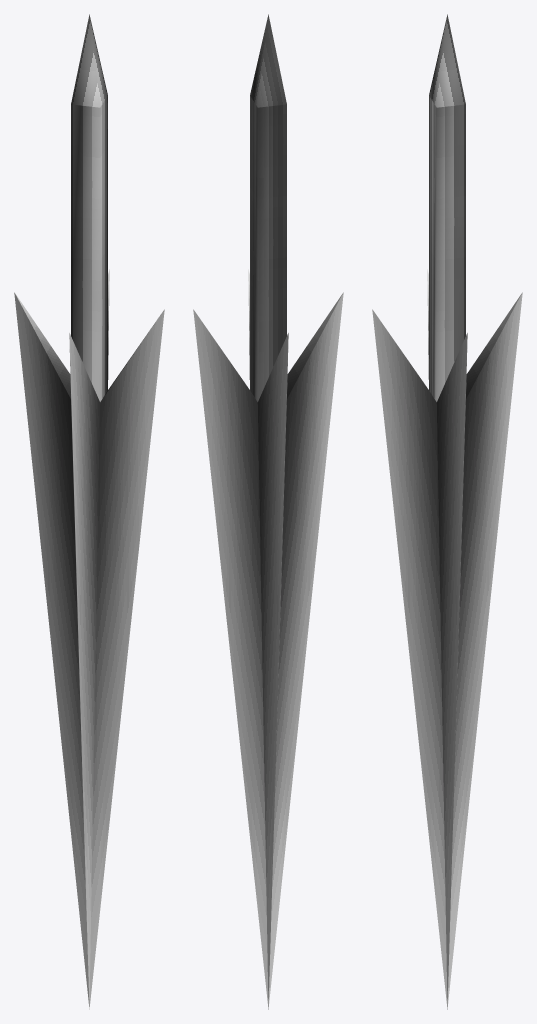
File: ArrowSteel01.glb
The picture shows the model from 3 angles, left to right: view 1: azimuth 30°, elevation 25°; view 2: azimuth 150°, elevation 25°; view 3: azimuth 330°, elevation 25°; orthographic projection.
Parts seen in each view (by area): view 1: model_ArrowSteel01; view 2: model_ArrowSteel01; view 3: model_ArrowSteel01.
Boxes of the visible parts, x1=… form: model_ArrowSteel01: x1=14, y1=14, x2=164, y2=1009; model_ArrowSteel01: x1=193, y1=14, x2=343, y2=1009; model_ArrowSteel01: x1=372, y1=14, x2=522, y2=1009.
Bounding box in the file's own units: 0.0867 × 0.8647 × 0.0867.
Materials: 1 (1 with a texture image).
